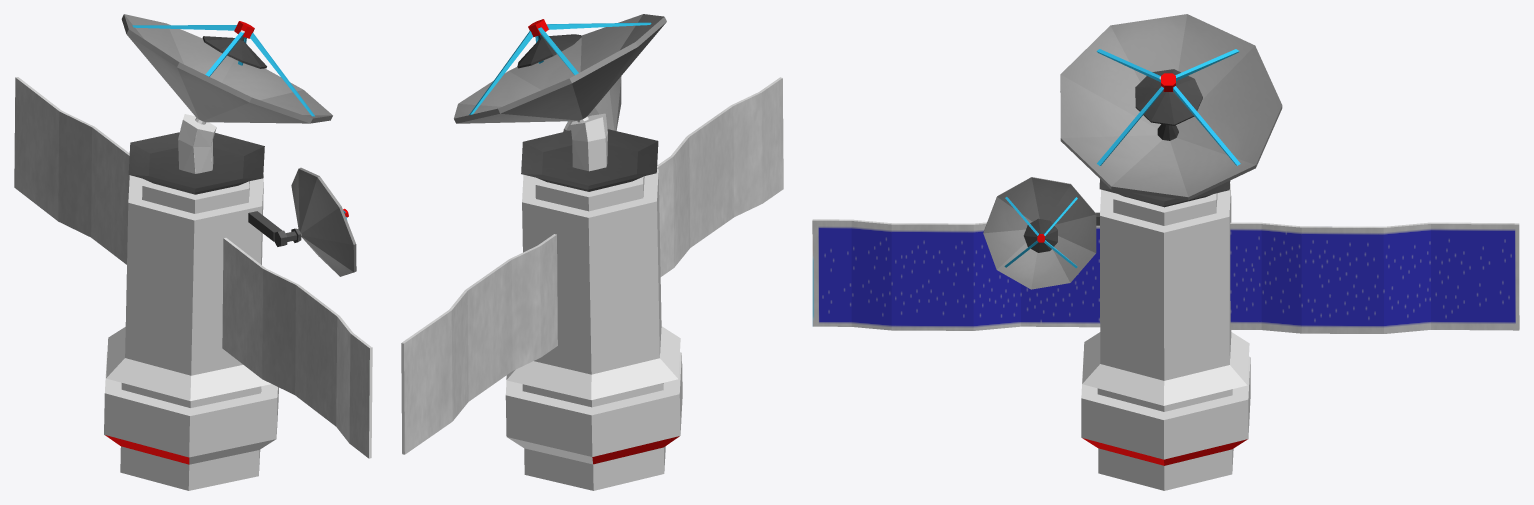
File: TorreRadar3.fbx
3 views of the same model, side by side, from view 1: azimuth 30°, elevation 25°; view 2: azimuth 150°, elevation 25°; view 3: azimuth 270°, elevation 25° (orthographic). The views are drawn at different scales.
Parts seen in each view (by area): view 1: Torre; view 2: Torre; view 3: Torre.
Boxes of the visible parts, x1,y1,x2,y2 form: Torre: [14, 14, 372, 490]; Torre: [401, 14, 783, 490]; Torre: [812, 14, 1519, 490].
Bounding box in the file's own units: 184 × 364 × 555.
